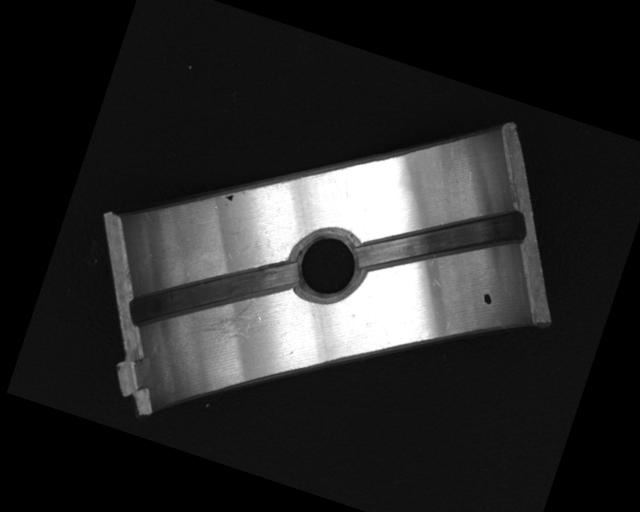blot: (480, 291, 495, 306), (223, 191, 235, 203)
gap: (124, 215, 301, 368), (355, 169, 526, 311)
hole: (284, 219, 371, 310)
scratch: (180, 277, 266, 358)
